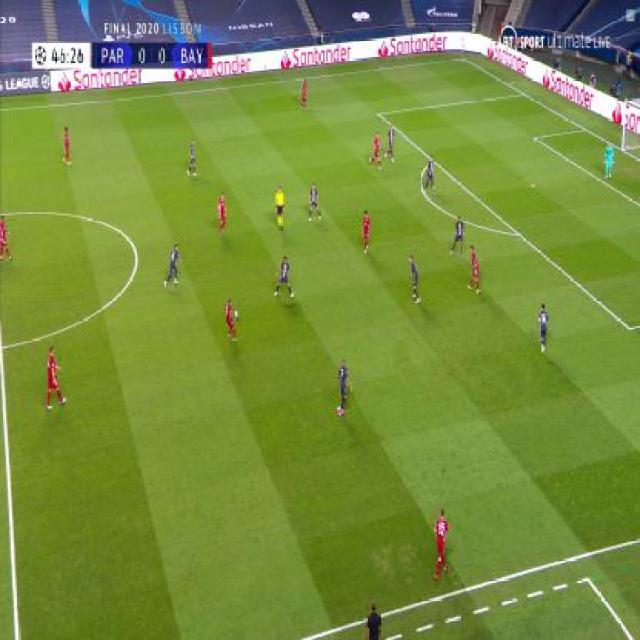ball: (234, 310, 239, 319)
player: (44, 344, 67, 409), (433, 507, 450, 580), (336, 358, 352, 417), (274, 255, 294, 300), (163, 243, 182, 289), (536, 302, 550, 355), (224, 296, 240, 342), (449, 214, 466, 257), (467, 244, 481, 293), (365, 599, 382, 639), (408, 255, 421, 303), (0, 211, 12, 260), (368, 130, 382, 169), (308, 182, 322, 221), (275, 185, 286, 233), (384, 124, 397, 163), (361, 209, 372, 255), (217, 191, 228, 237), (424, 155, 437, 192), (602, 141, 615, 178), (187, 138, 198, 177), (299, 78, 310, 111), (63, 125, 72, 165)
